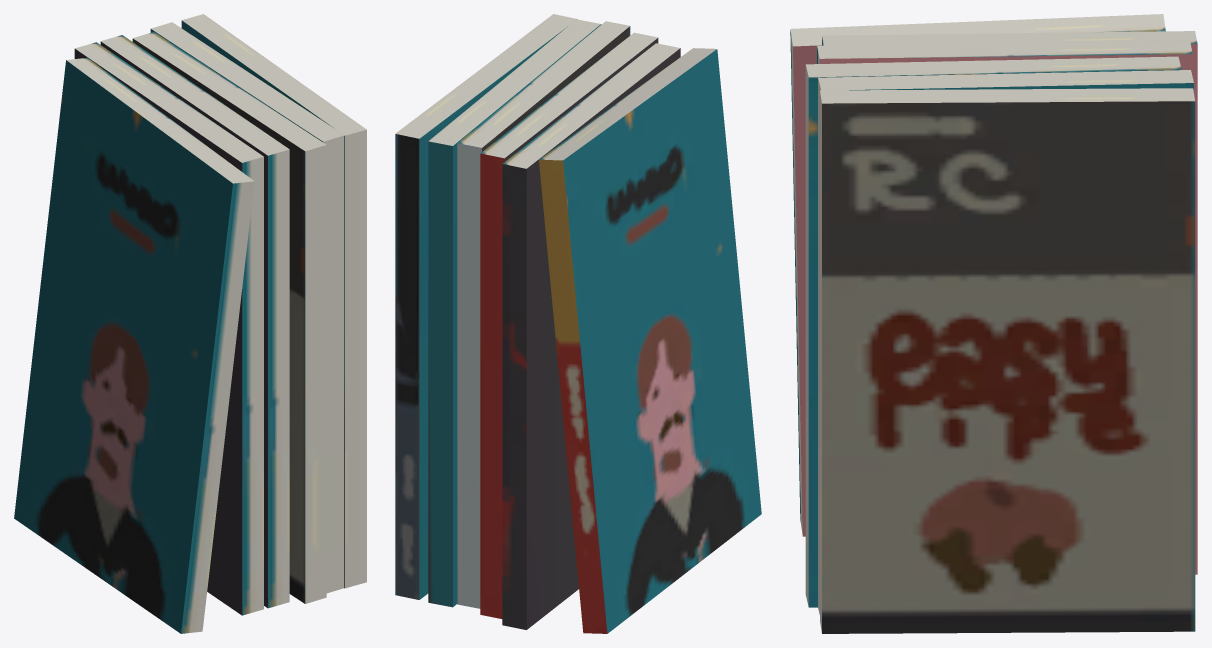
File: Libros2_H1.obj
The picture shows the model from 3 angles, left to right: view 1: azimuth 30°, elevation 25°; view 2: azimuth 150°, elevation 25°; view 3: azimuth 270°, elevation 25°; orthographic projection. The views are drawn at different scales.
Visible parts, largest first — view 1: Libros2_H1; view 2: Libros2_H1; view 3: Libros2_H1.
Part boxes in pixels (x1,y1,x2,y2): Libros2_H1: (14,14,366,633); Libros2_H1: (395,14,761,633); Libros2_H1: (790,14,1197,633).
Bounding box in the file's own units: 0.0991 × 0.213 × 0.147.
Materials: 1 (1 with a texture image).
